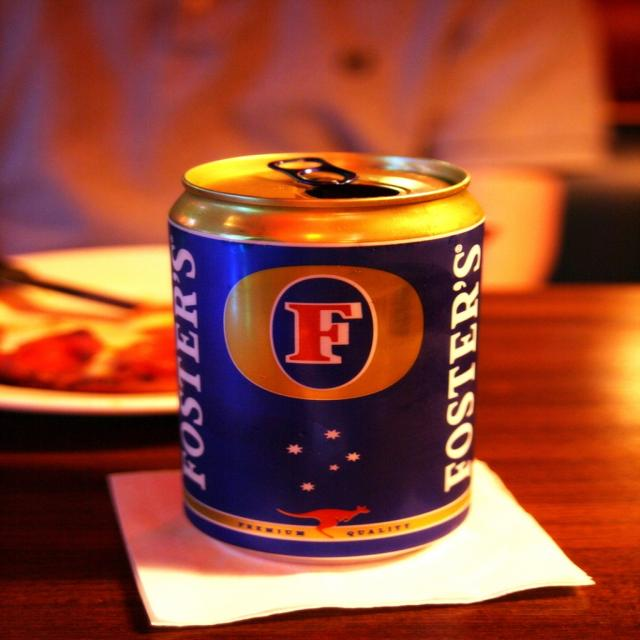fosters: (218, 262, 432, 403)
